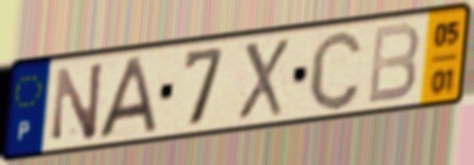7: (180, 45, 231, 129)
A: (96, 53, 159, 142)
B: (365, 20, 423, 108)
C: (305, 26, 365, 113)
N: (49, 59, 106, 145)
X: (235, 35, 291, 123)
